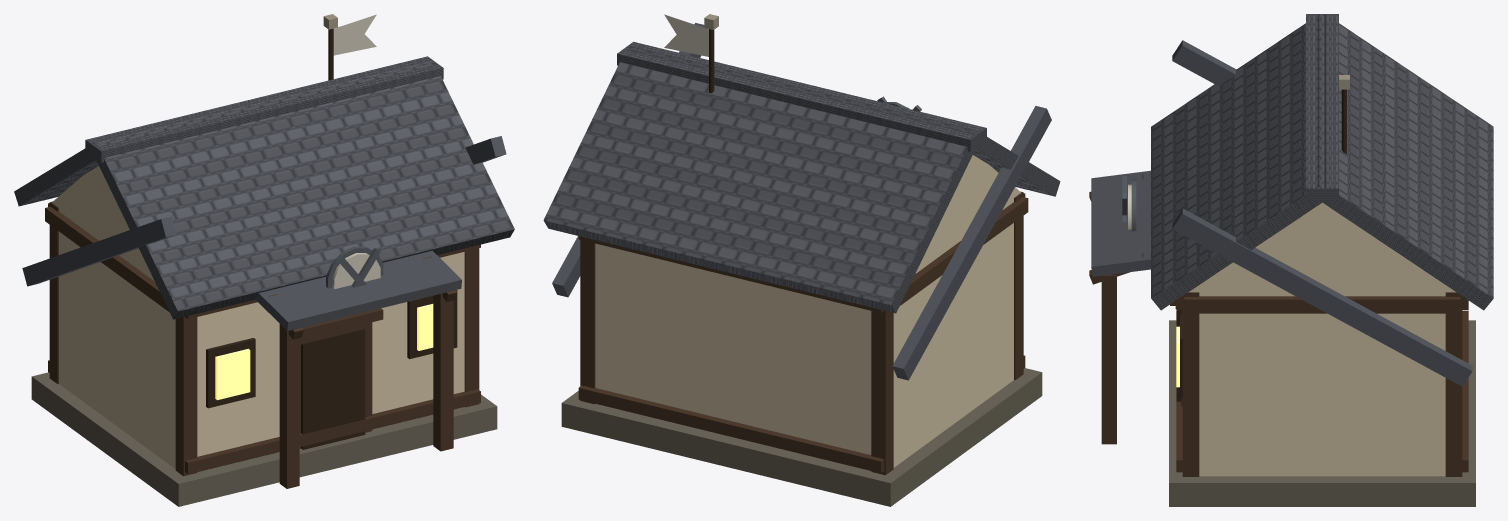
The model's file is infantry-L1.glb.
3 views of the same model, side by side, from view 1: azimuth 30°, elevation 25°; view 2: azimuth 150°, elevation 25°; view 3: azimuth 270°, elevation 25° (orthographic). The views are drawn at different scales.
Visible parts, largest first — view 1: building-infantry-L1; view 2: building-infantry-L1; view 3: building-infantry-L1.
Part boxes in pixels (left/top/right/bottom): building-infantry-L1: left=14, top=14, right=514, bottom=506; building-infantry-L1: left=543, top=14, right=1060, bottom=506; building-infantry-L1: left=1089, top=14, right=1493, bottom=506.
Size of the model in its own units: 1.76 by 1.82 by 1.72.
Materials: 10 (1 with a texture image).
